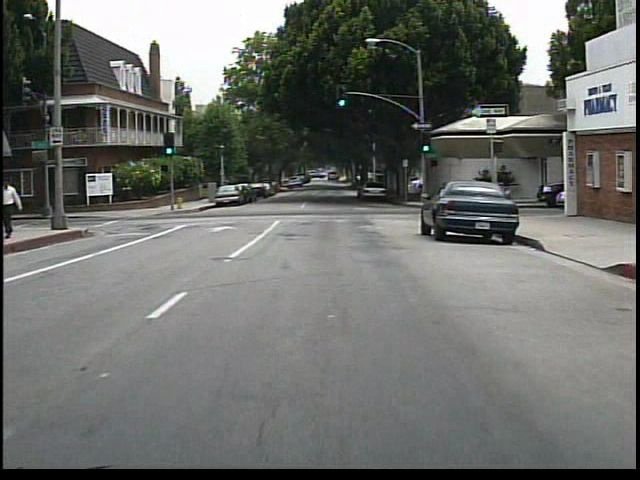person: (497, 170, 519, 207)
